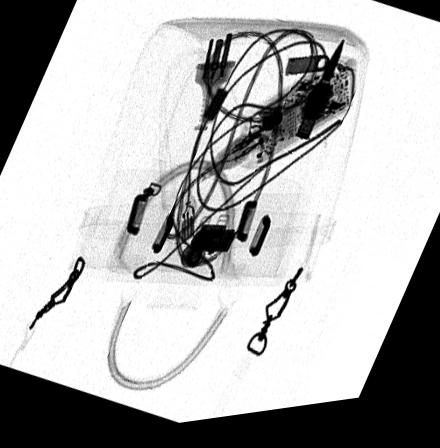Bullet: (292, 45, 345, 151)
